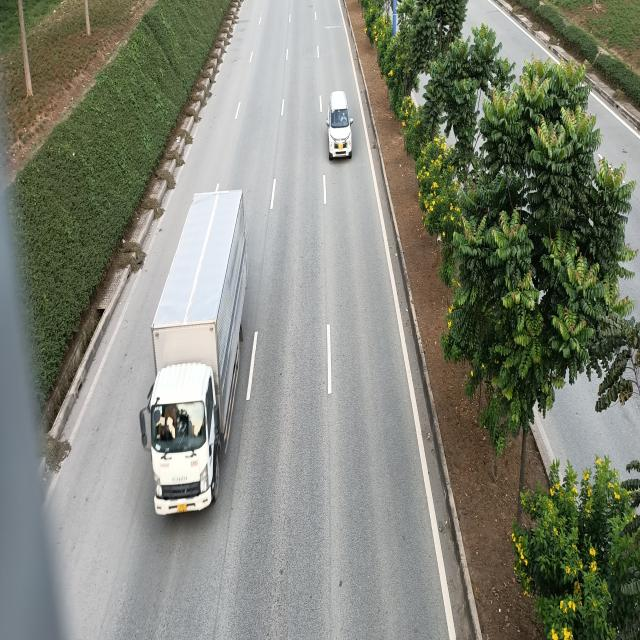car: (328, 92, 354, 160)
truck: (138, 193, 244, 523)
